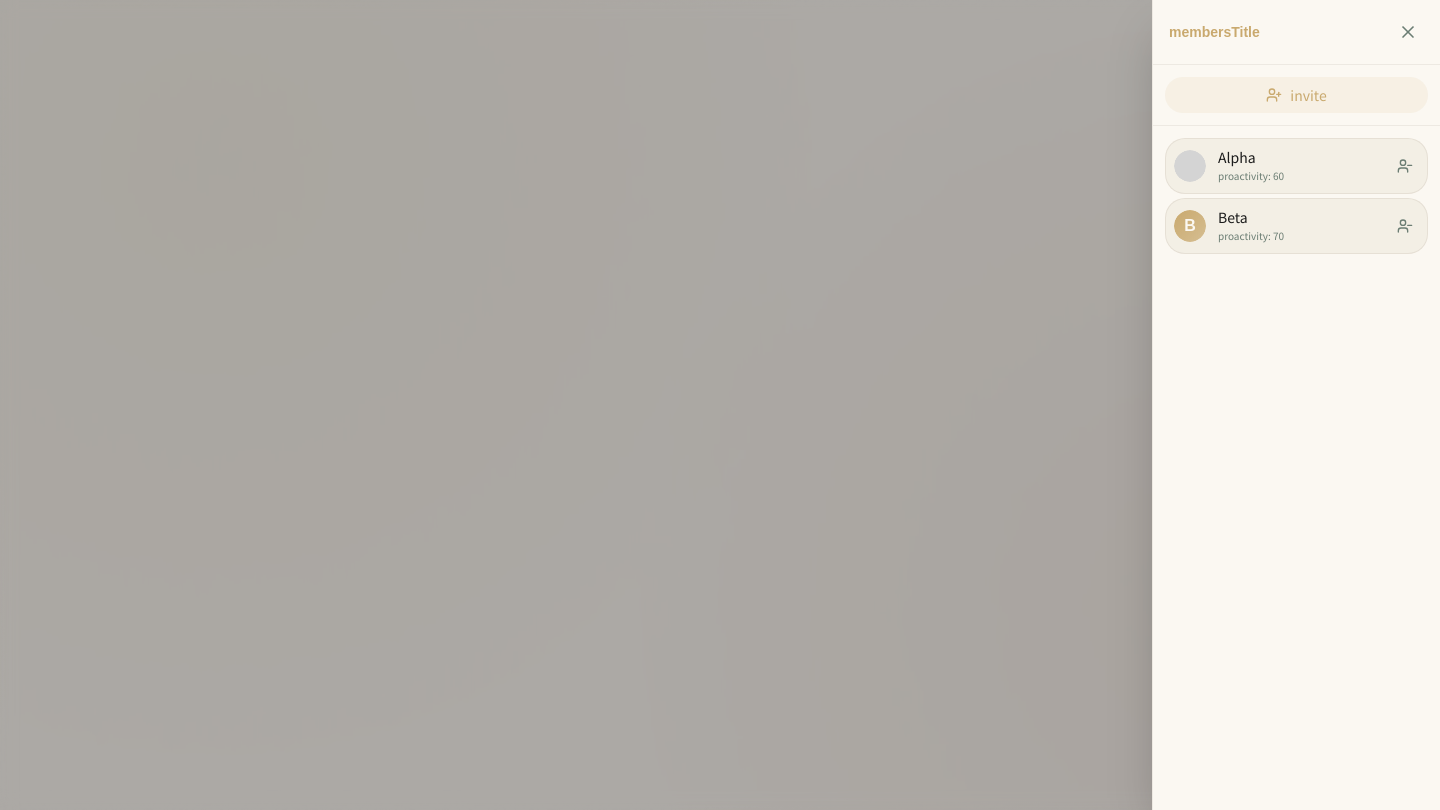
Test case: GroupMembersPanel kick flow › shows an in-app confirm dialog before removing a member
Click the button named "kick" next to "60": [1405, 166] box [1391,152,1419,180]
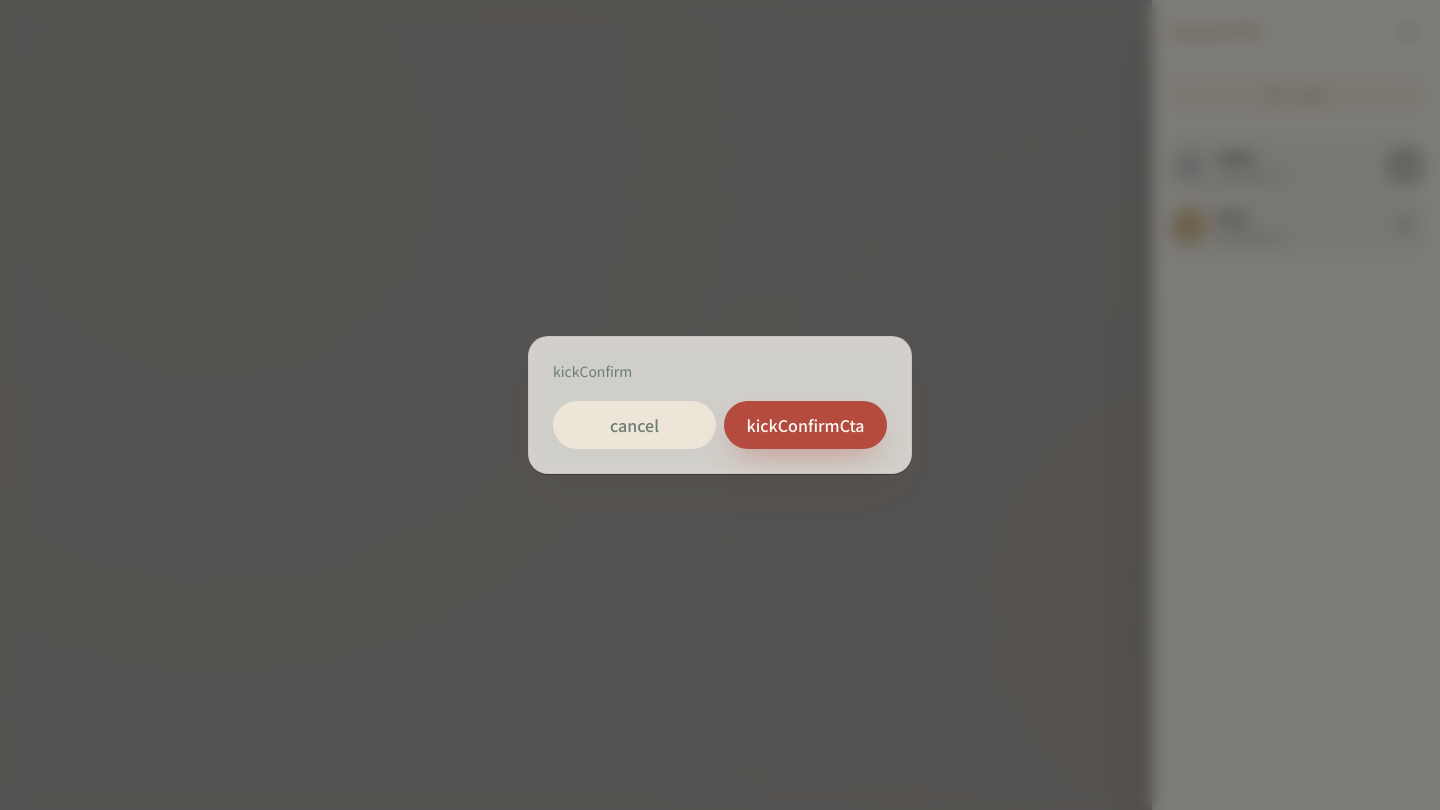
Result: the dialog is shown at [528,336,912,474]
Result: the text "kickConfirm" is shown at [553,361,632,381]
